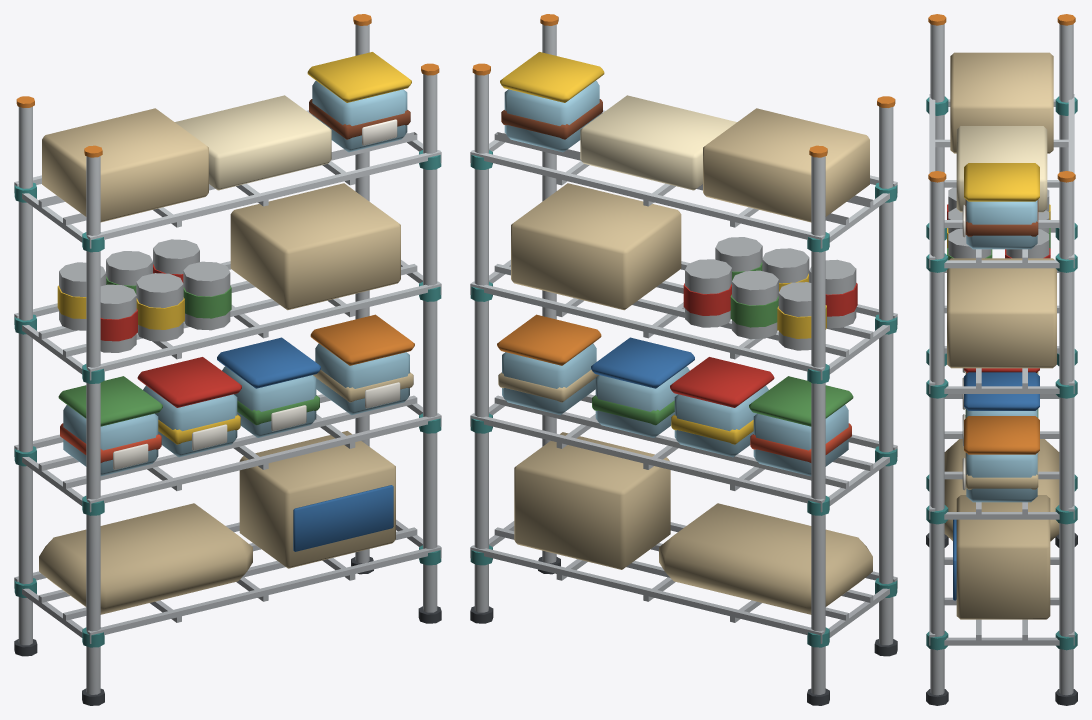
The model's file is SM_Shelving_Wire_Loaded_12.glb.
The picture shows the model from 3 angles, left to right: view 1: azimuth 30°, elevation 25°; view 2: azimuth 150°, elevation 25°; view 3: azimuth 270°, elevation 25°; orthographic projection. The views are drawn at different scales.
Visible parts, largest first — view 1: SM_Shelving_Wire_Loaded_12; view 2: SM_Shelving_Wire_Loaded_12; view 3: SM_Shelving_Wire_Loaded_12.
Boxes of the visible parts, x1=… form: SM_Shelving_Wire_Loaded_12: x1=14, y1=14, x2=441, y2=705; SM_Shelving_Wire_Loaded_12: x1=470, y1=14, x2=897, y2=705; SM_Shelving_Wire_Loaded_12: x1=926, y1=14, x2=1077, y2=705.
Size of the model in its own units: 1.22 by 1.8 by 0.47.
1 material, 1 textured.
